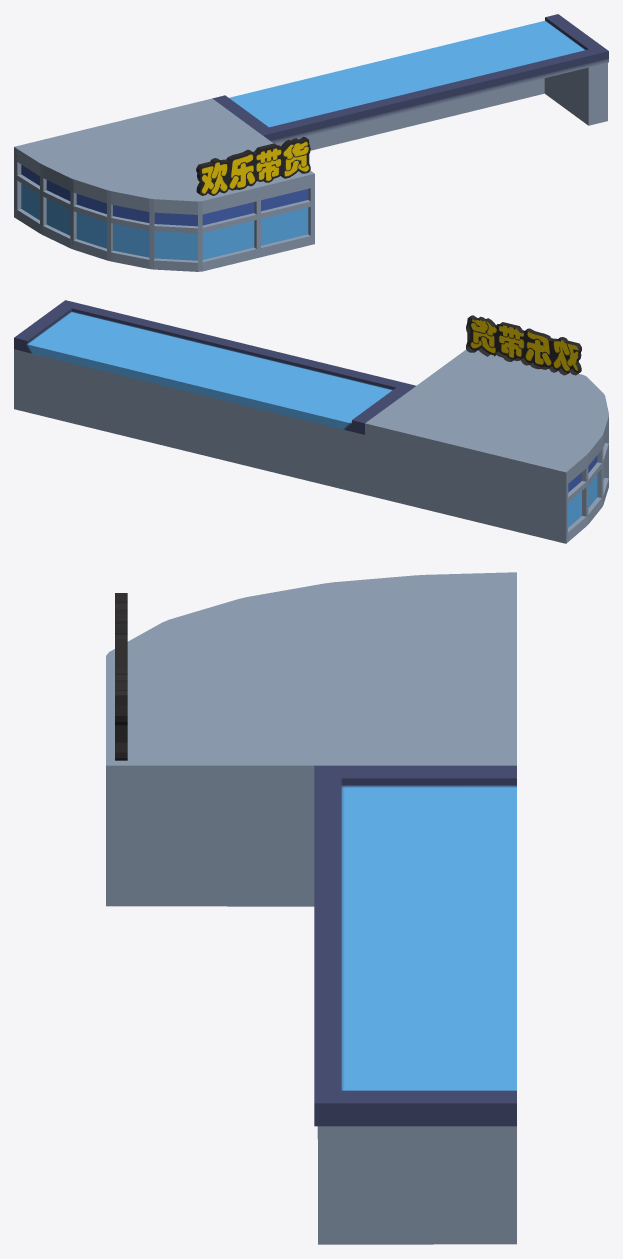
File: CheZhan1_Mo.fbx
3 views of the same model, one above another, from view 1: azimuth 30°, elevation 25°; view 2: azimuth 150°, elevation 25°; view 3: azimuth 270°, elevation 25° (orthographic). The views are drawn at different scales.
Parts seen in each view (by area): view 1: Box001; view 2: Box001; view 3: Box001.
Boxes of the visible parts, box(x1,y1,x2,y2) form: Box001: box(14, 14, 608, 271); Box001: box(14, 300, 608, 543); Box001: box(106, 572, 516, 1244).
Size of the model in its own units: 3410 by 634 by 1116.
Materials: 1 (1 with a texture image).
